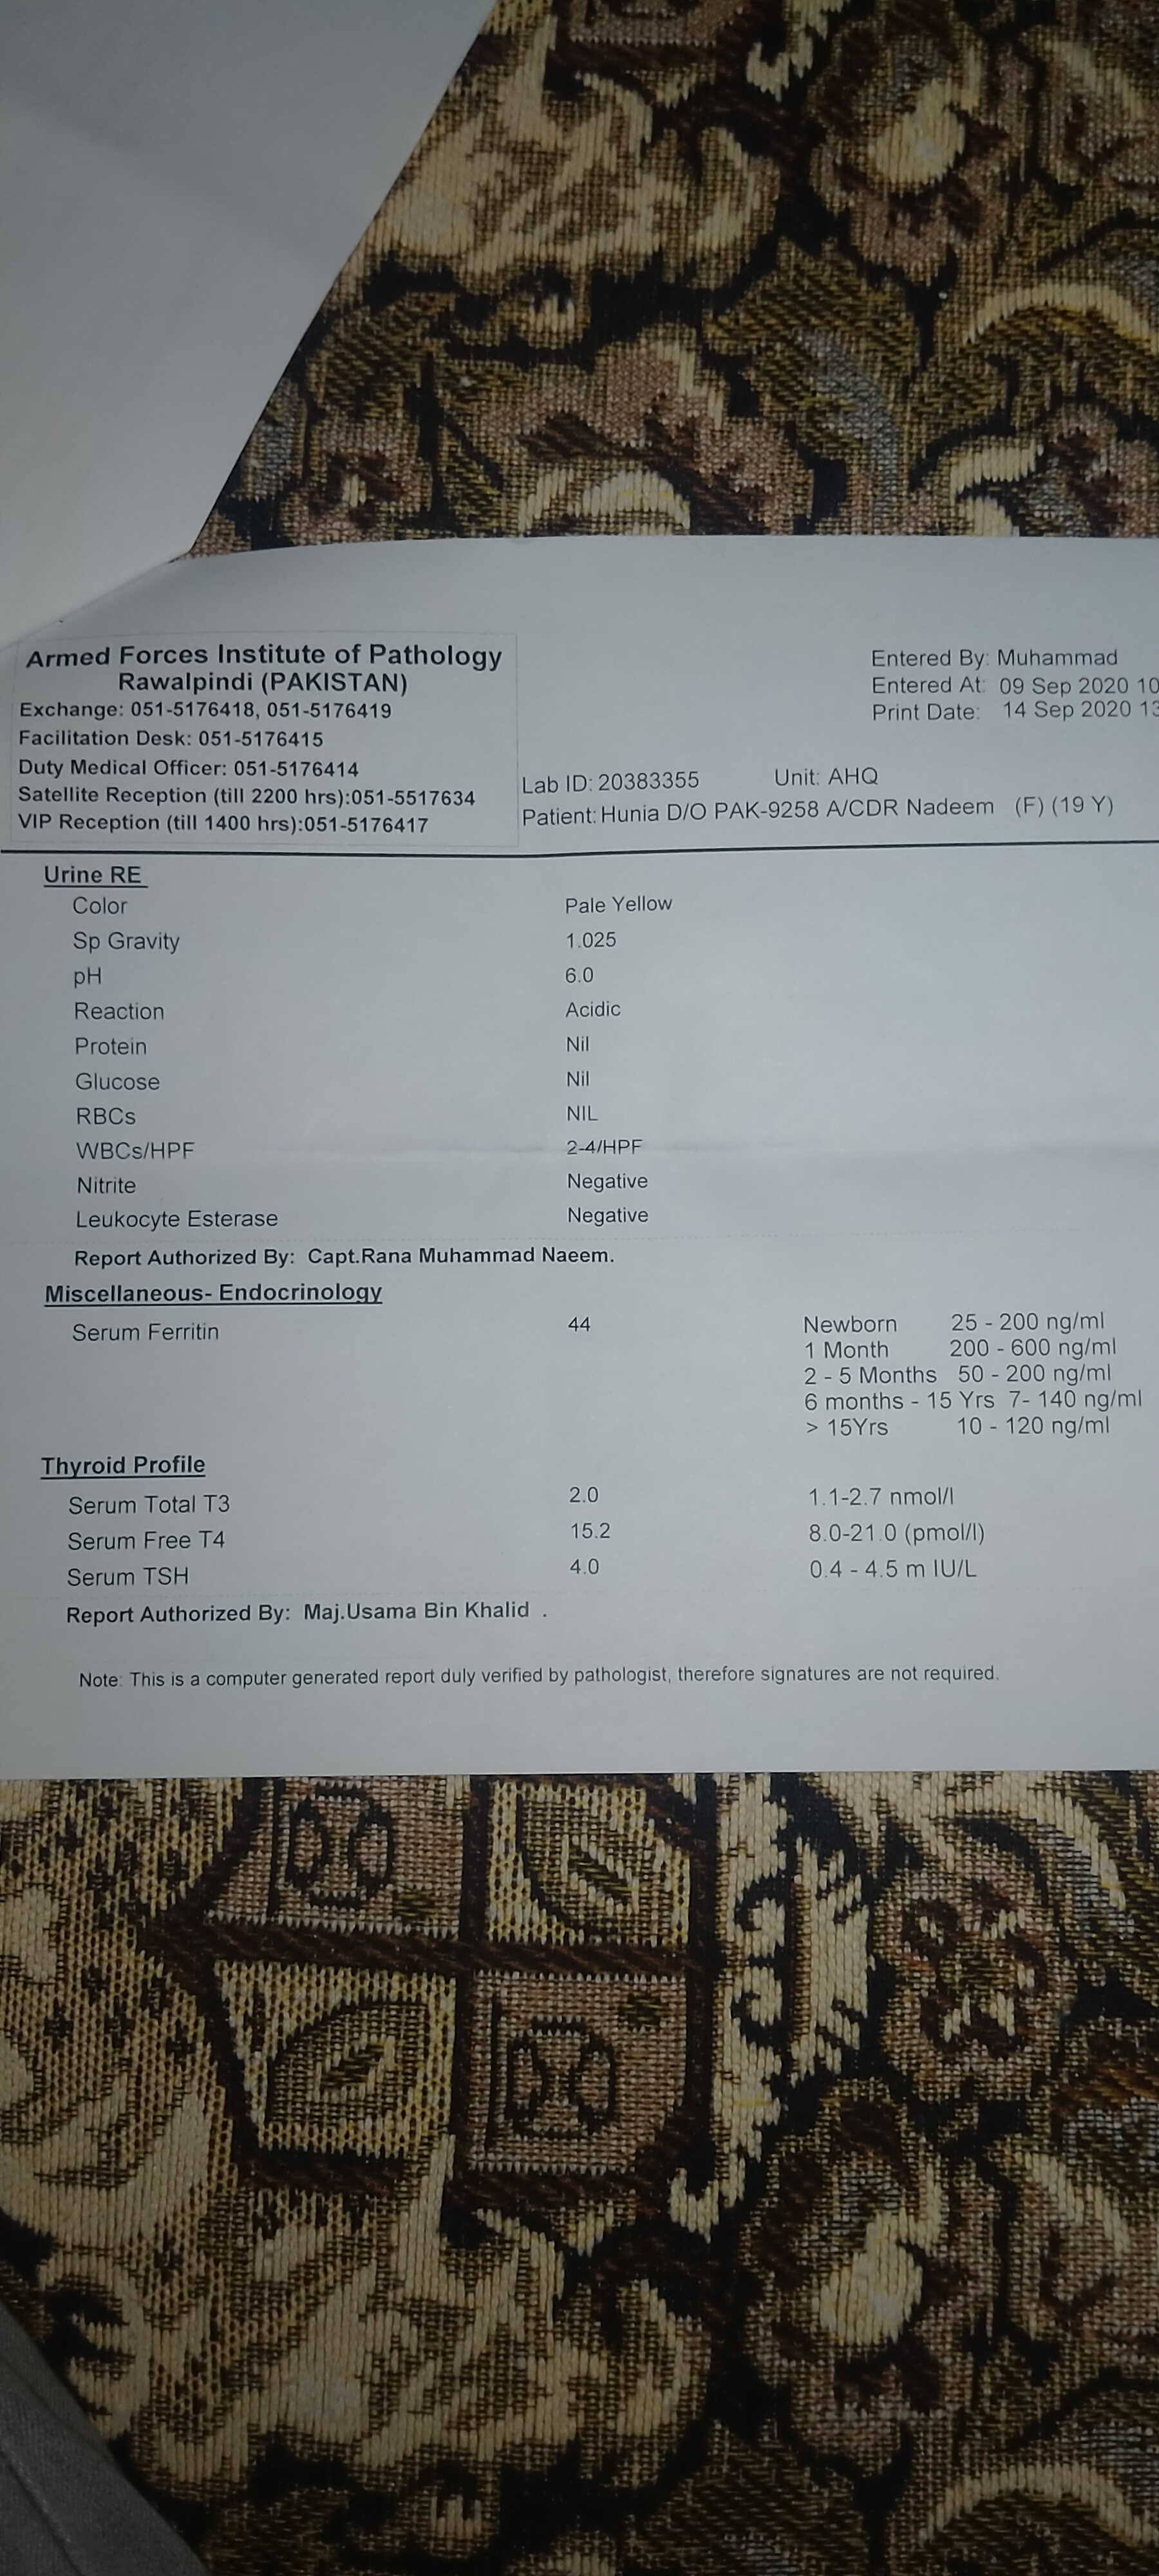report: (13, 846, 1159, 1730)
